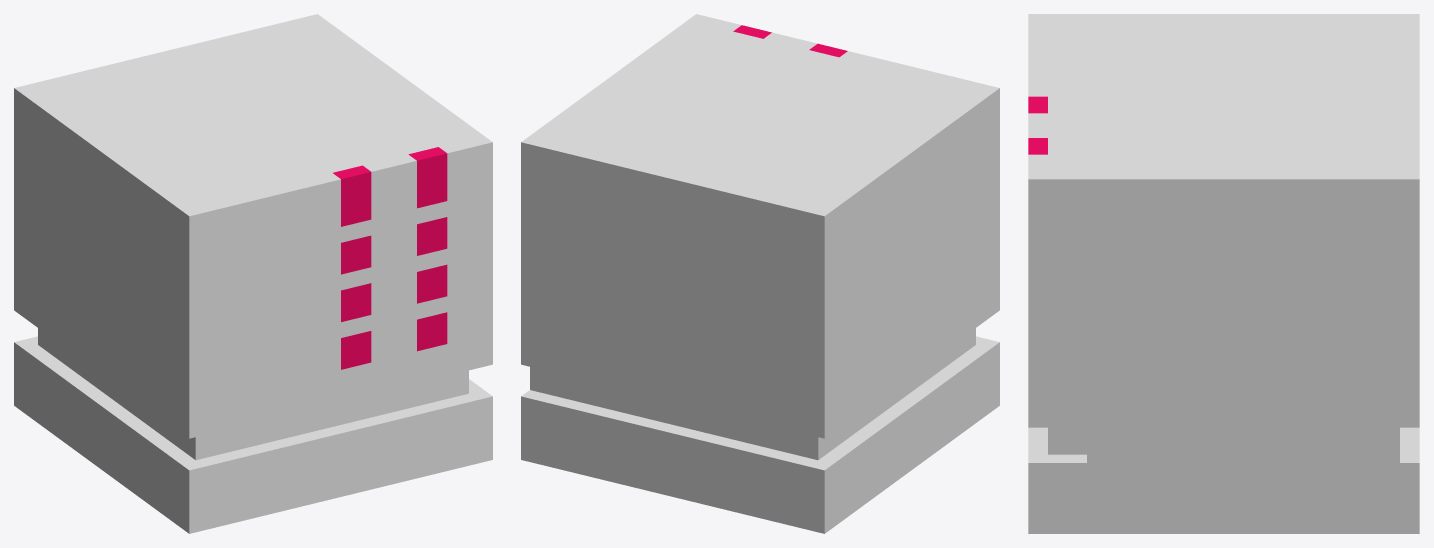
File: DoorLeftBottom.FBX
3 views of the same model, side by side, from view 1: azimuth 30°, elevation 25°; view 2: azimuth 150°, elevation 25°; view 3: azimuth 270°, elevation 25° (orthographic). The views are drawn at different scales.
Visible parts, largest first — view 1: Lado_IzqPuerta; view 2: Lado_IzqPuerta; view 3: Lado_IzqPuerta.
Boxes of the visible parts, box(x1,y1,x2,y2) form: Lado_IzqPuerta: box(14, 14, 492, 533); Lado_IzqPuerta: box(521, 14, 999, 533); Lado_IzqPuerta: box(1028, 14, 1419, 533).
Size of the model in its own units: 1 by 1 by 1.
1 material, 1 textured.
